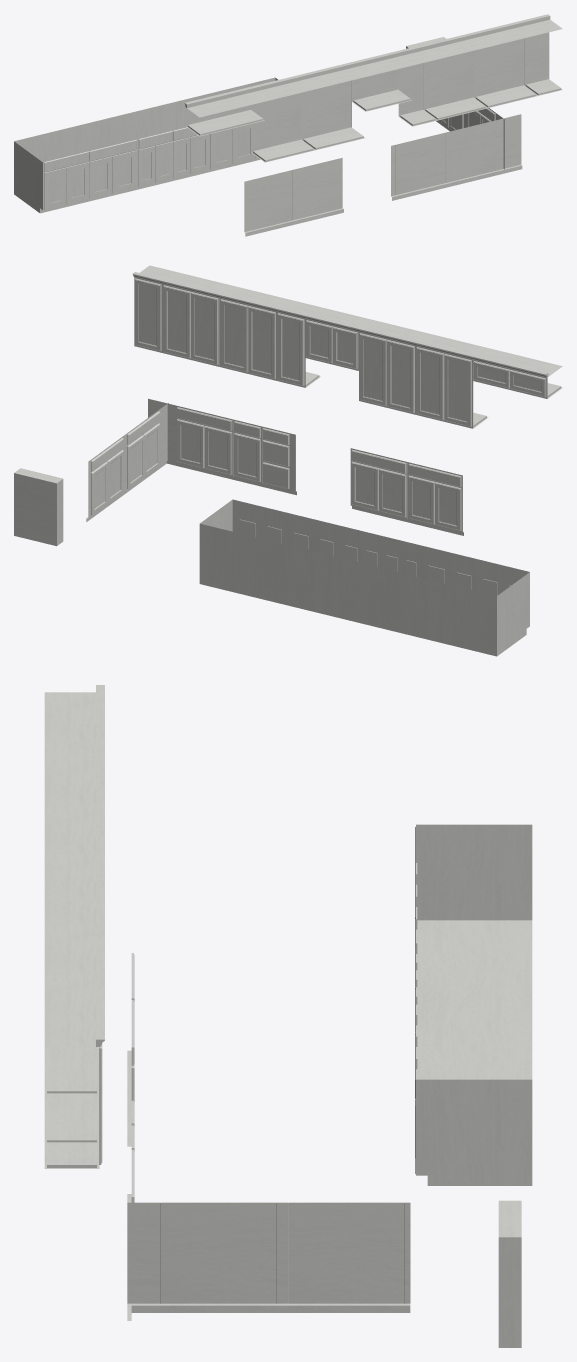
The model's file is 1860_kitchen_cabinets_linen.gltf.
3 views of the same model, one above another, from view 1: azimuth 30°, elevation 25°; view 2: azimuth 150°, elevation 25°; view 3: azimuth 270°, elevation 25° (orthographic). The views are drawn at different scales.
Parts seen in each view (by area): view 1: Box5855; view 2: Box5855; view 3: Box5855.
Boxes of the visible parts, x1,y1,x2,y2 form: Box5855: [14, 14, 562, 236]; Box5855: [14, 265, 562, 656]; Box5855: [44, 685, 532, 1347].
Bounding box in the file's own units: 8.5 × 2.93 × 4.2.
1 material, 1 textured.
